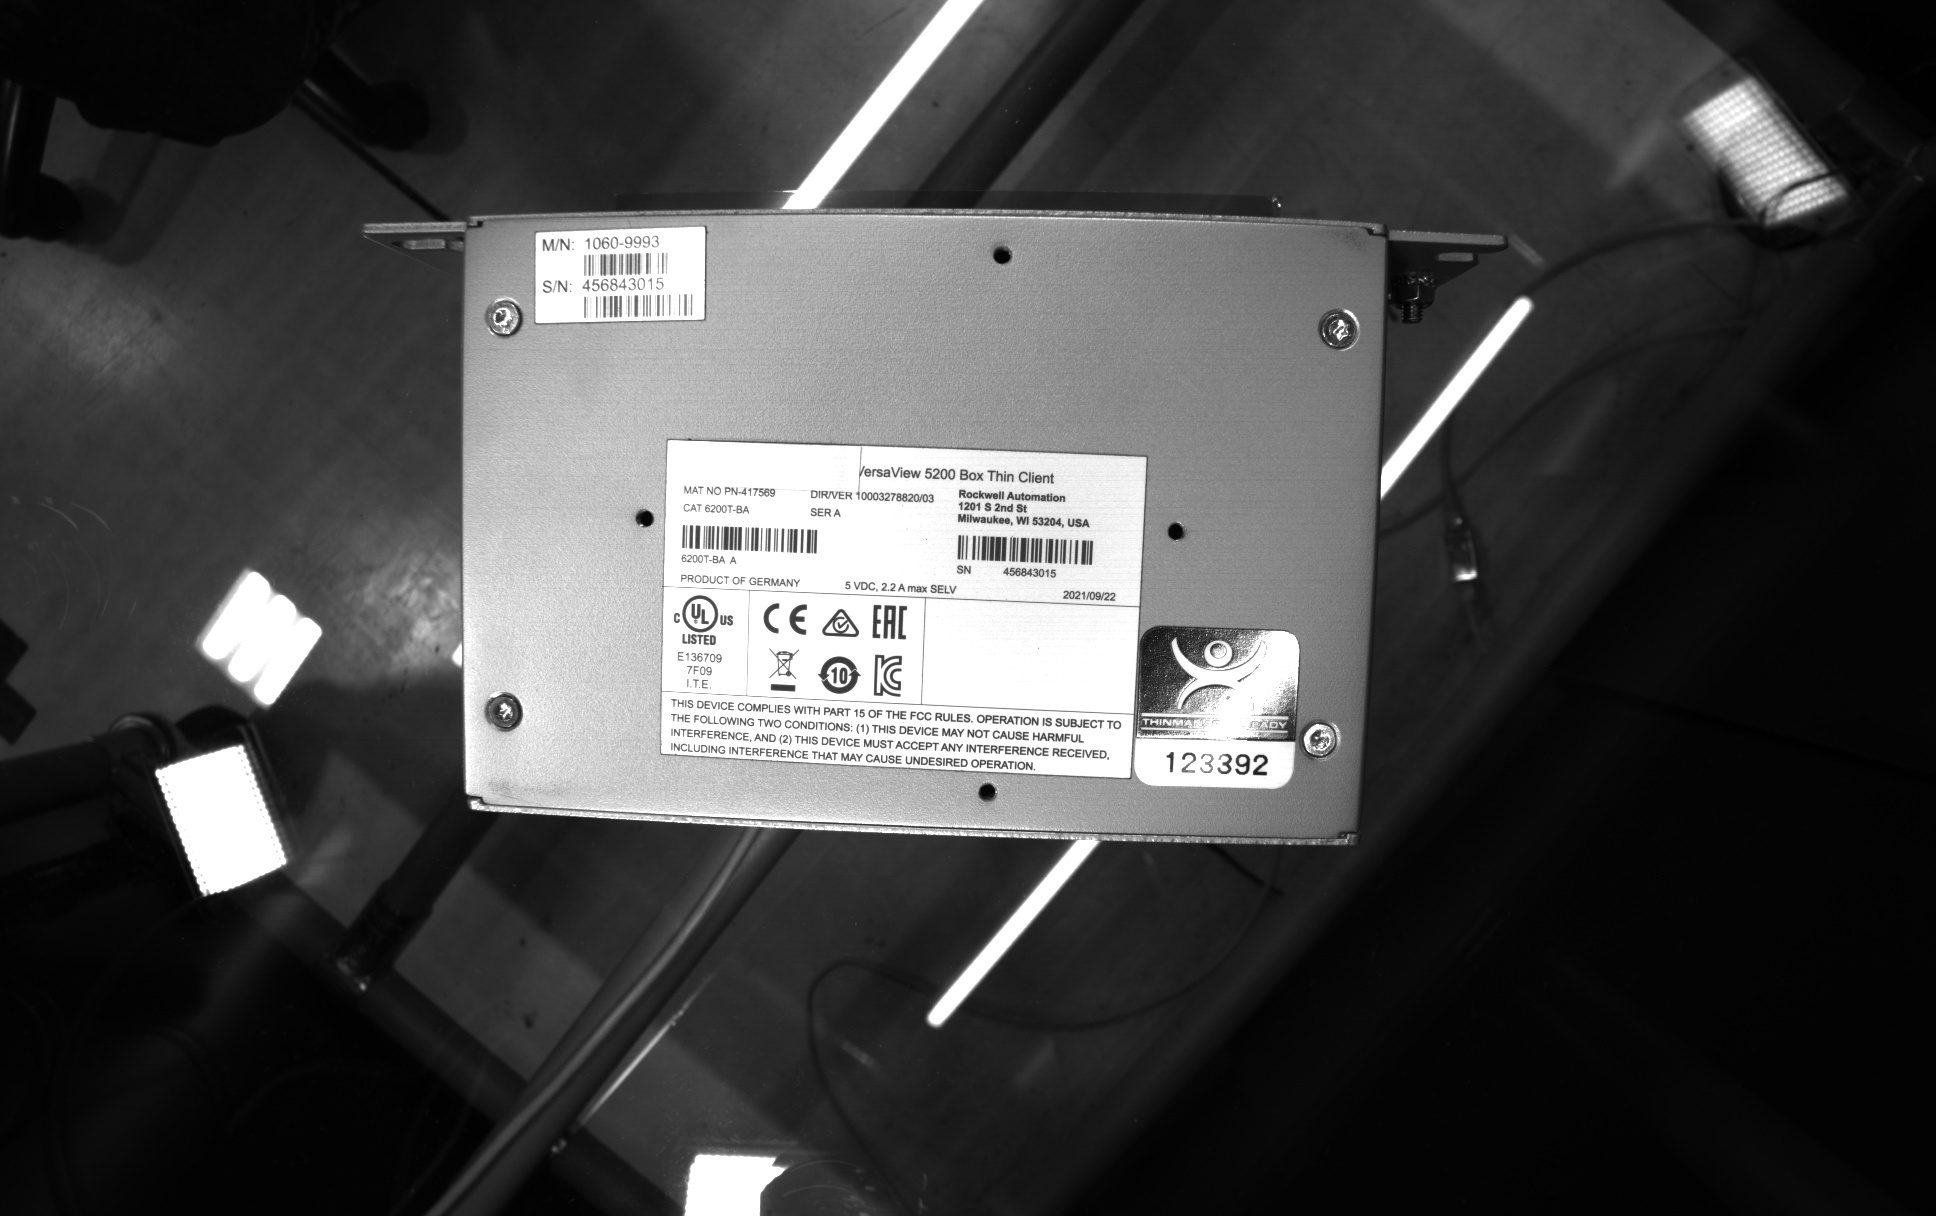Barcode: (946, 528, 1100, 570), (668, 520, 825, 558), (577, 290, 703, 326), (574, 247, 672, 280)
CamTop: (436, 192, 1404, 864)
Label_Seriennummer: (649, 429, 1161, 792)
Loch_Montage: (621, 489, 660, 535), (967, 773, 1010, 813), (1159, 504, 1196, 546), (981, 233, 1021, 270)
Schraube: (1310, 304, 1367, 357), (479, 685, 530, 741), (1296, 712, 1346, 766), (478, 293, 527, 345)
